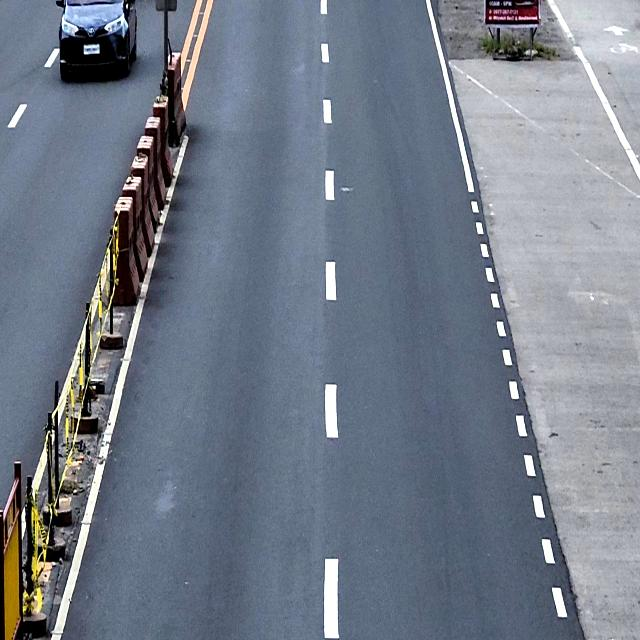Car: (55, 0, 138, 79)
License-Plate: (82, 44, 100, 56)
